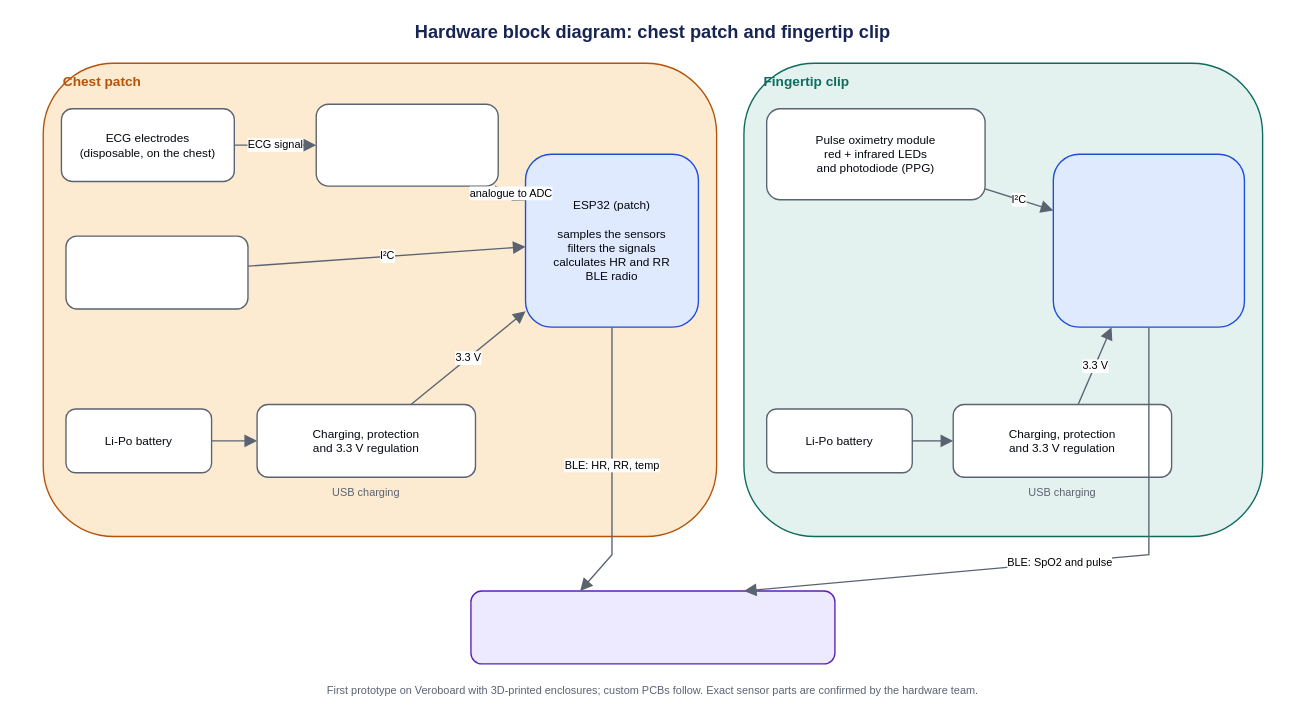
Image size: 1305x720. Some labels were removed from this diagram. The shapes that lost their labels are listed below. From the top down, each one's centre as x and y in pixels, then its label:
the point at 406,144: Biopotential analogue front end (amplify and filter)
the point at 1148,240: ESP32 (clip) samples the PPG signal calculates SpO2 and pulse BLE radio
the point at 156,272: Digital skin temperature sensor
the point at 652,627: Smartphone running the Seravyx app (Android or iOS)
